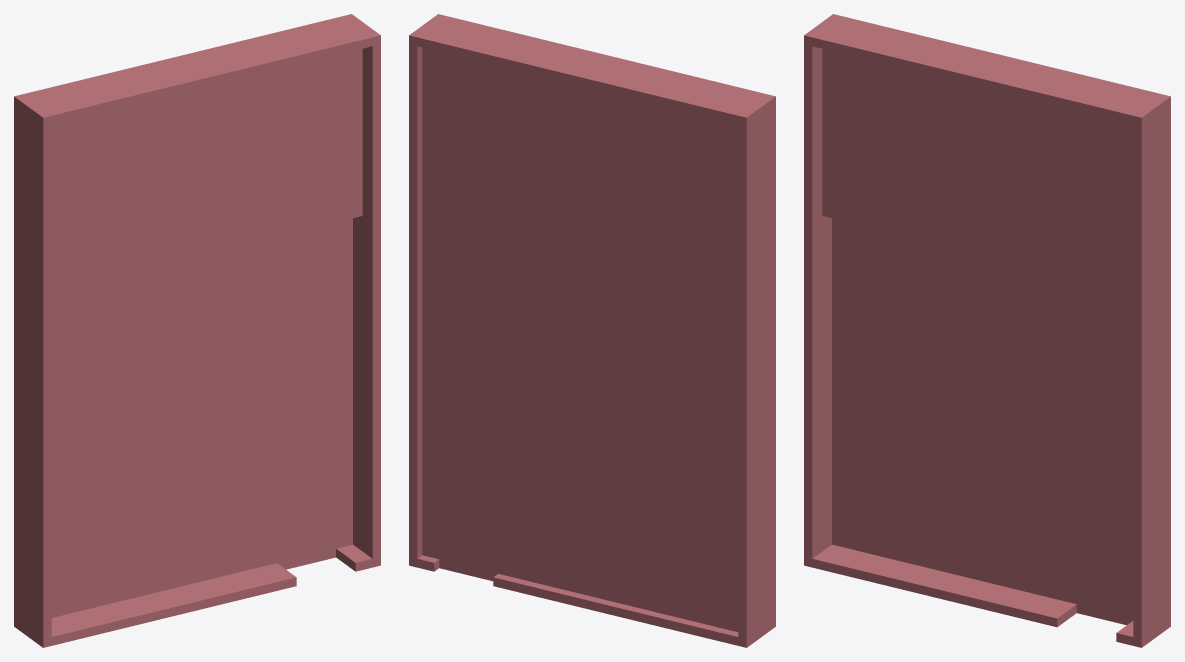
The model's file is body.obj.
3 renders of one model, left to right at view 1: azimuth 30°, elevation 25°; view 2: azimuth 150°, elevation 25°; view 3: azimuth 330°, elevation 25°, orthographic.
Parts seen in each view (by area): view 1: Cube_Cube.001; view 2: Cube_Cube.001; view 3: Cube_Cube.001.
Boxes of the visible parts, <box> form: Cube_Cube.001: <box>14,14,380,647</box>; Cube_Cube.001: <box>409,14,775,647</box>; Cube_Cube.001: <box>804,14,1170,647</box>.
Bounding box in the file's own units: 4 × 6 × 0.6.
